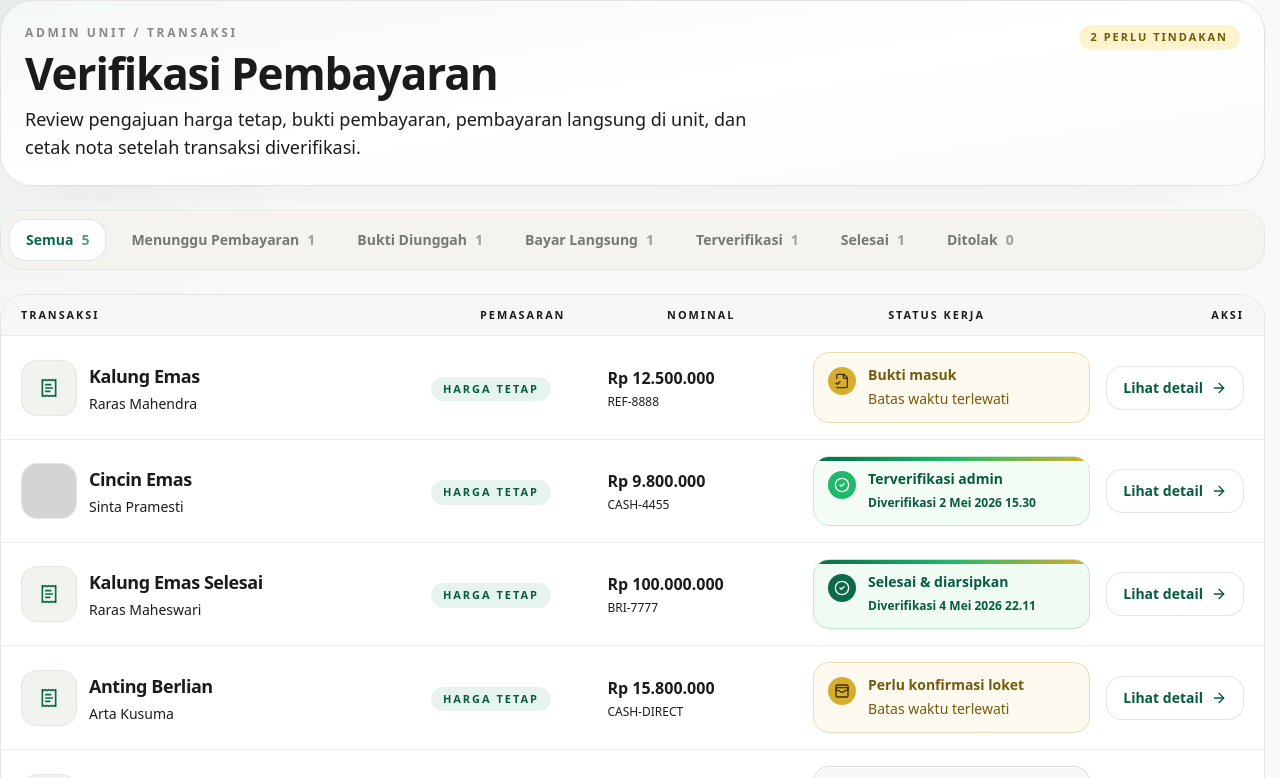
Test: admin transaction pages › filters harga tetap verification records by payment status
Click the button "Menunggu Pembayaran1" at (223, 240), box [114,219,332,261]
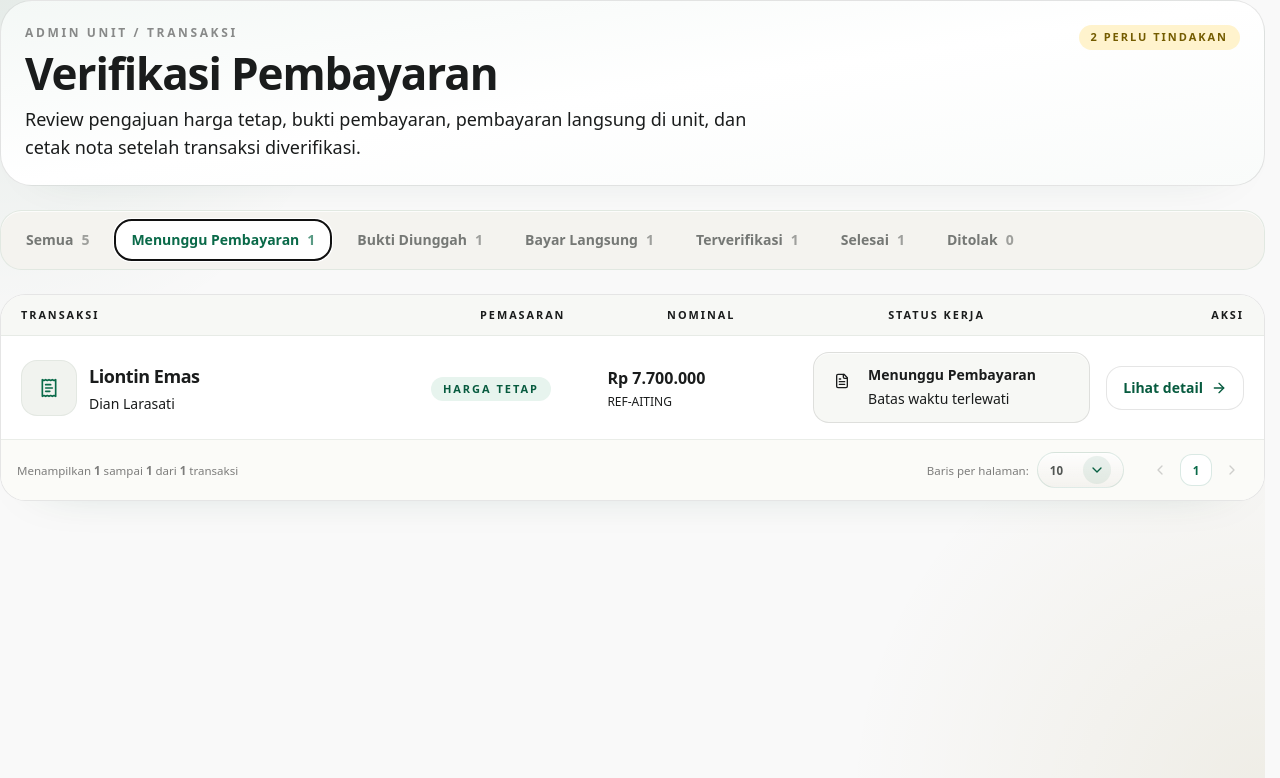
Expected: the heading "Liontin Emas" is shown, [89,362,200,390]
Expected: the heading "Kalung Emas" is gone
Expected: the heading "Anting Berlian" is gone
